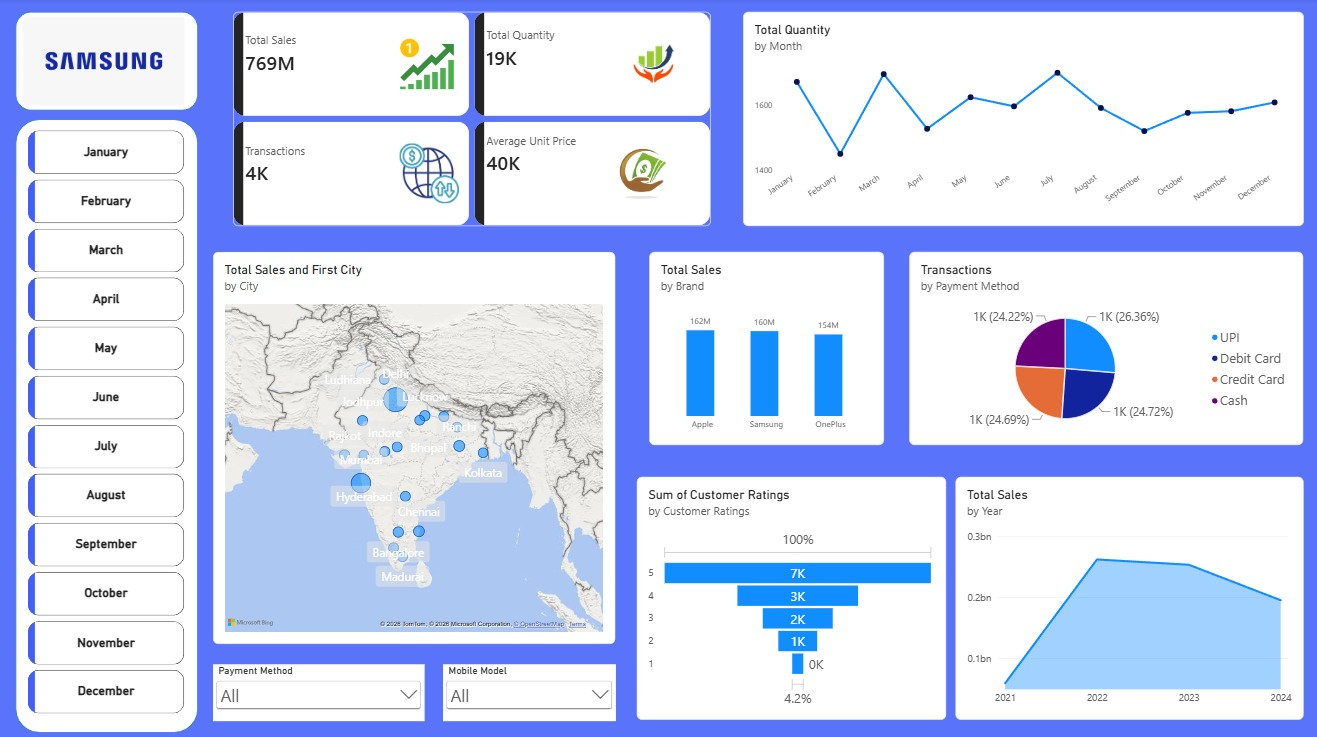

This screenshot's page, from the dashboard's own definition file:
{"tool":"powerbi","page":{"name":"Page 1","canvas":[1920,1080],"ordinal":0},"visuals":[{"type":"shape","box":[26,176,264,888],"z":2000},{"type":"advancedSlicerVisual","fields":{"Values":["Sales_Data.Date.Variation.Date Hierarchy.Month"]},"box":[44,192,226,854],"z":3000},{"type":"cardVisual","fields":{"Data":["Sales_Data.Total Sales","Sales_Data.Total Quantity","Sales_Data.Transactions","Sales_Data.Average Unit Price"]},"box":[340,20,692,310],"z":3001},{"type":"lineChart","fields":{"Category":["Sales_Data.Date.Variation.Date Hierarchy.Month"],"Y":["Sales_Data.Total Quantity"]},"box":[1078,20,812,310],"z":3002},{"type":"columnChart","fields":{"Category":["Sales_Data.Brand"],"Y":["Sales_Data.Total Sales"]},"box":[942,368,340,280],"z":3003},{"type":"map","fields":{"Category":["Sales_Data.City"],"Size":["Sales_Data.Total Sales"]},"box":[312,368,582,568],"z":3005},{"type":"pieChart","fields":{"Category":["Sales_Data.Payment Method"],"Y":["Sales_Data.Transactions"]},"box":[1320,368,570,280],"z":3006},{"type":"funnel","fields":{"Category":["Sales_Data.Customer Ratings"],"Y":["Sum(Sales_Data.Customer Ratings)"]},"box":[924,694,448,352],"z":3007},{"type":"areaChart","fields":{"Category":["Sales_Data.Date.Variation.Date Hierarchy.Year"],"Y":["Sales_Data.Total Sales"]},"box":[1386,694,504,352],"z":3008},{"type":"slicer","fields":{"Values":["Sales_Data.Payment Method"]},"box":[312,964,306,82],"z":3009},{"type":"slicer","fields":{"Values":["Sales_Data.Mobile Model"]},"box":[644,964,250,82],"z":3010},{"type":"shape","box":[25.3,19.9,264.2,143],"z":3011},{"type":"image","box":[36.2,27.1,233.4,128.5],"z":3012}]}

Visuals, with their boxes in screenshot pixels (x1, y1, x2, y2), scaled from the page's 1920x1080 canvas onto the 1317x737 screenshot:
shape: detection(18, 120, 199, 726)
advancedSlicerVisual - Sales_Data.Date.Variation.Date Hierarchy.Month: detection(30, 131, 185, 714)
cardVisual - Sales_Data.Total Sales x Sales_Data.Total Quantity: detection(233, 14, 708, 225)
lineChart - Sales_Data.Date.Variation.Date Hierarchy.Month x Sales_Data.Total Quantity: detection(739, 14, 1296, 225)
columnChart - Sales_Data.Brand x Sales_Data.Total Sales: detection(646, 251, 879, 442)
map - Sales_Data.City x Sales_Data.Total Sales: detection(214, 251, 613, 639)
pieChart - Sales_Data.Payment Method x Sales_Data.Transactions: detection(905, 251, 1296, 442)
funnel - Sales_Data.Customer Ratings x Sum(Sales_Data.Customer Ratings): detection(634, 474, 941, 714)
areaChart - Sales_Data.Date.Variation.Date Hierarchy.Year x Sales_Data.Total Sales: detection(951, 474, 1296, 714)
slicer - Sales_Data.Payment Method: detection(214, 658, 424, 714)
slicer - Sales_Data.Mobile Model: detection(442, 658, 613, 714)
shape: detection(17, 14, 199, 111)
image: detection(25, 18, 185, 106)
